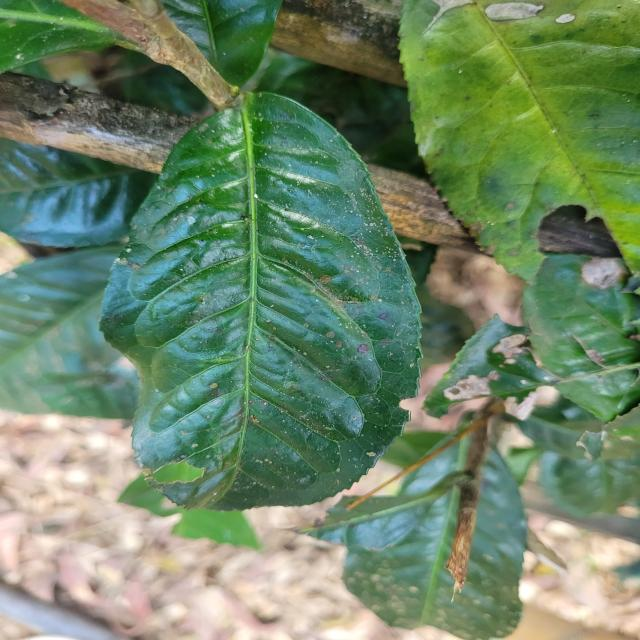Category D 7+ days, Not for Tea: (93, 61, 443, 532)
